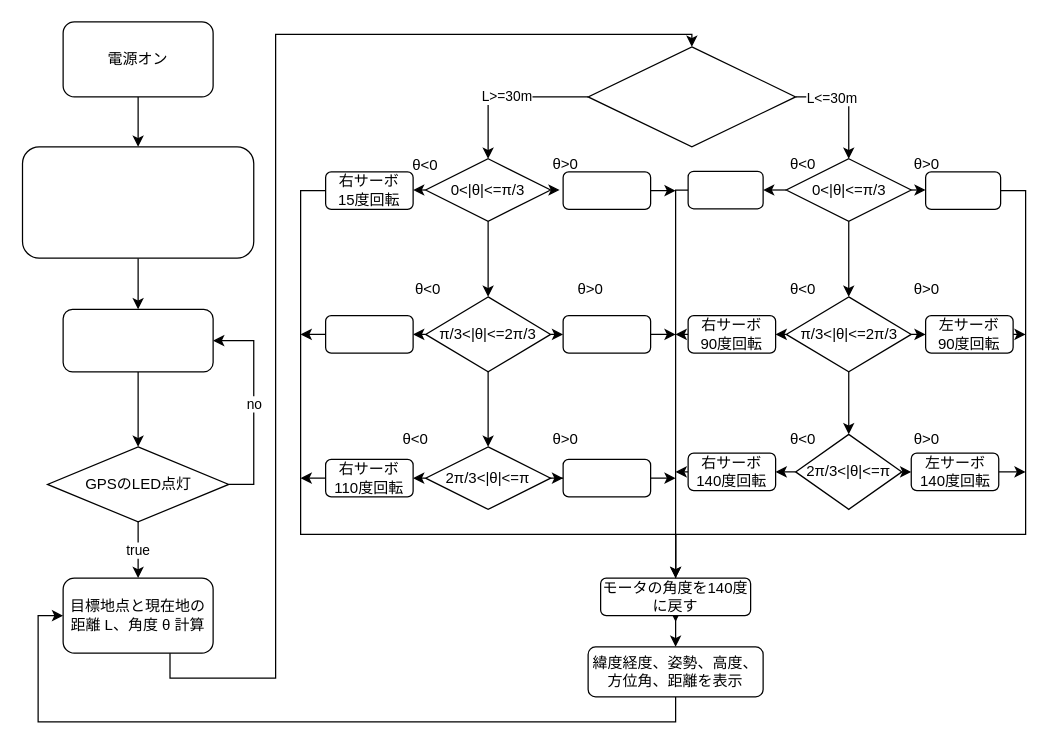
Image size: 1058x754. Some labels were removed from this diagram. The box of each missing label's shape, as (x1, y1, x2, y2) in pixels:
GPSの取得: (62, 308, 213, 372)
右サーボ 30度回転: (687, 170, 763, 209)
右サーボ 75度回転: (324, 314, 413, 353)
地磁気センサ 気圧センサ 三軸加速度ジャイロ 初期化 モーターの角度を140度に固定: (21, 146, 254, 258)
左サーボ 110度回転: (562, 458, 651, 497)
左サーボ 15度回転: (562, 171, 651, 209)
左サーボ 30度回転: (924, 171, 1001, 209)
左サーボ 75度回転: (562, 314, 651, 353)
現在地点と 目標地点までの距離 L はどの範囲か: (587, 46, 796, 147)
